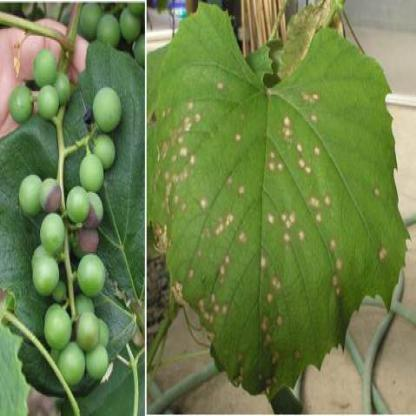grape leaf black rot: (153, 33, 408, 402)
